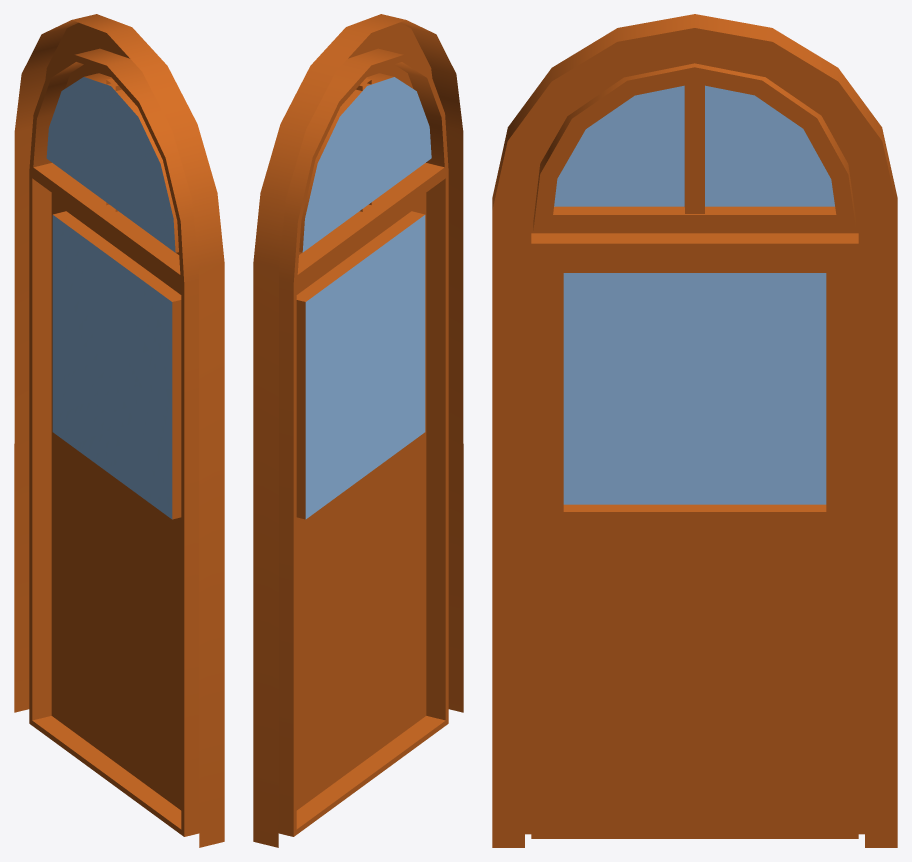
File: P_Door_02.dae
3 views of the same model, side by side, from view 1: azimuth 30°, elevation 25°; view 2: azimuth 150°, elevation 25°; view 3: azimuth 270°, elevation 25° (orthographic). The views are drawn at different scales.
Visible parts, largest first — view 1: Door_02; view 2: Door_02; view 3: Door_02.
Boxes of the visible parts, box(x1,y1,x2,y2) form: Door_02: box(14, 14, 224, 847); Door_02: box(253, 14, 463, 847); Door_02: box(492, 14, 897, 847).
Bounding box in the file's own units: 0.1099 × 1.39 × 3.09.
